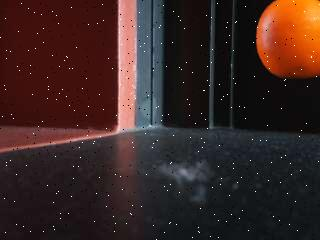Orange: (256, 0, 320, 82)
